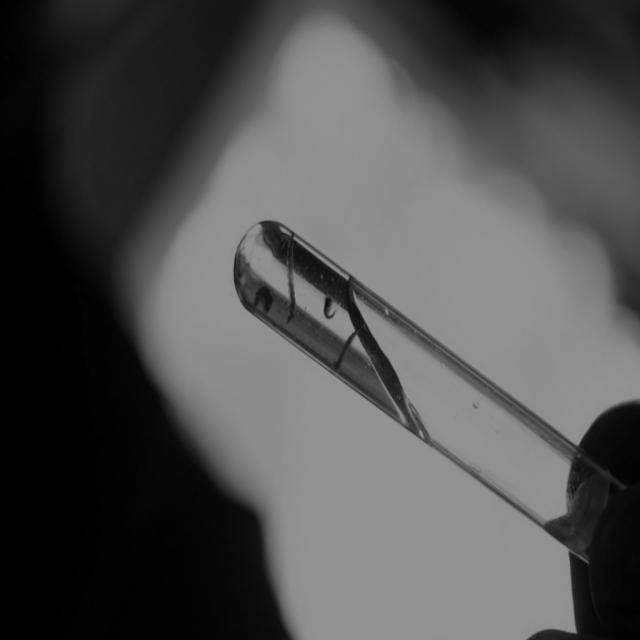larvas: (332, 328, 359, 374), (284, 234, 296, 321), (250, 286, 276, 314), (324, 294, 338, 320)
